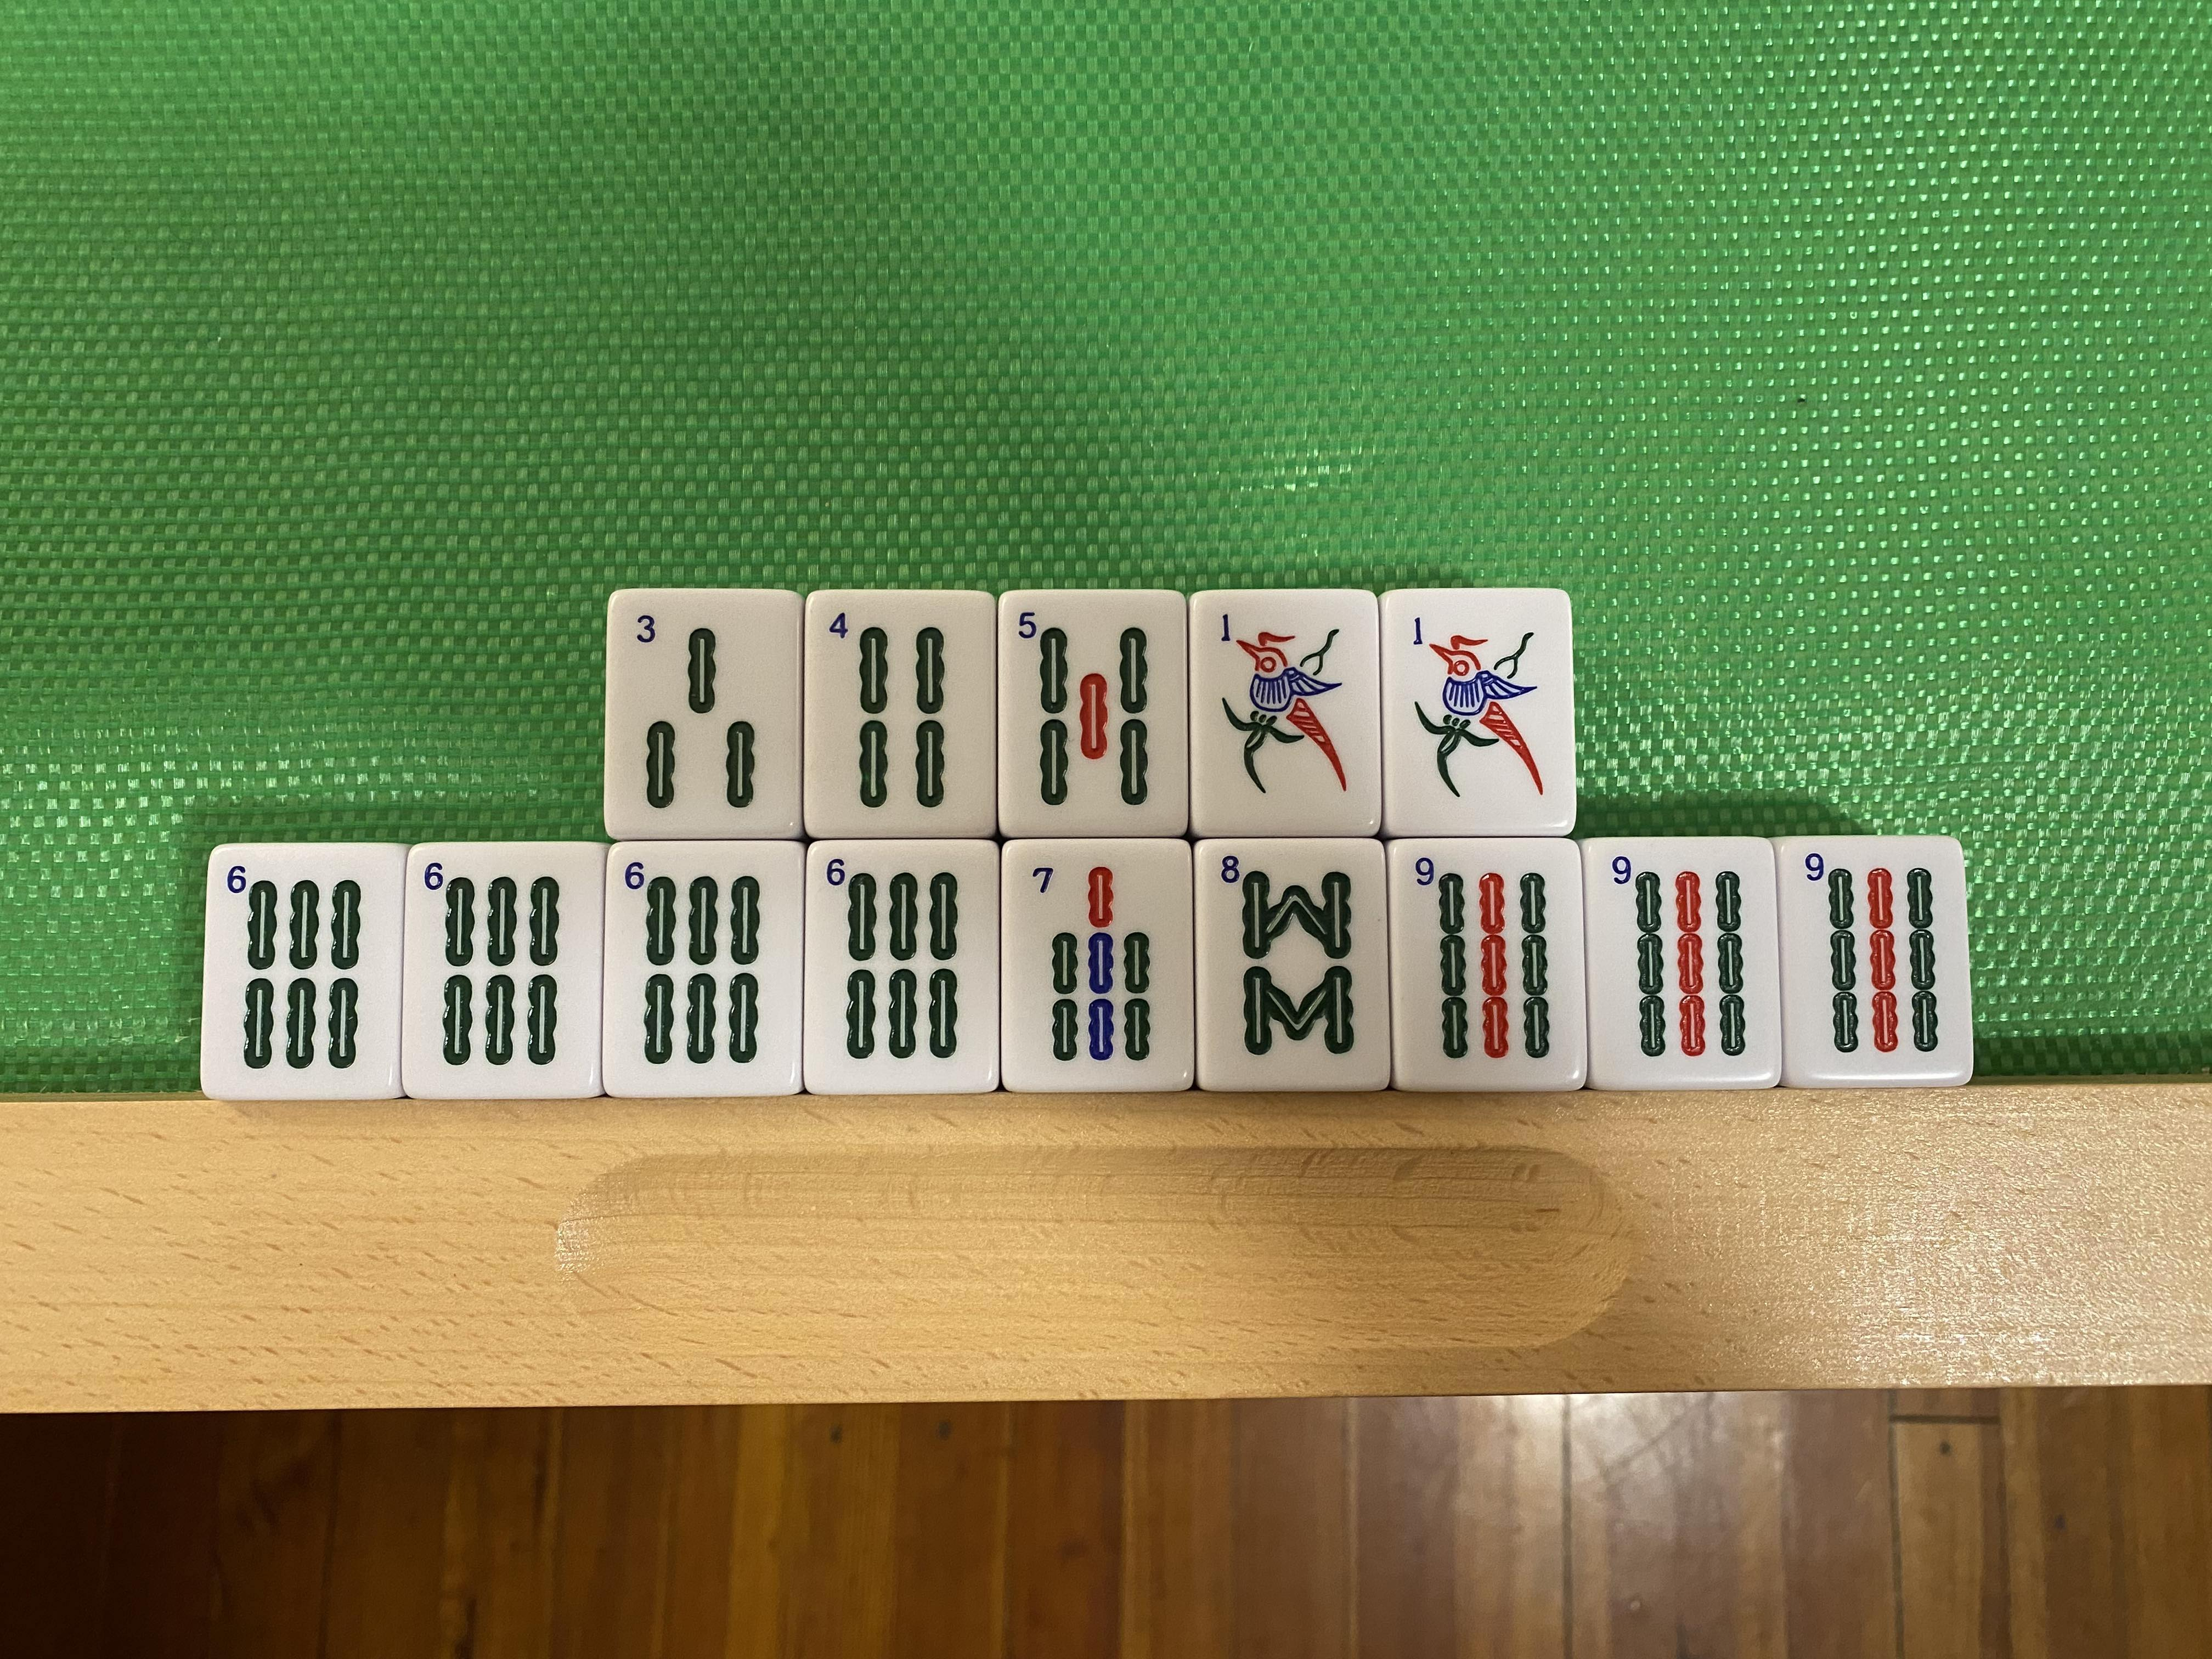bamboo-eight: (1197, 843, 1385, 1087)
bamboo-five: (1001, 594, 1186, 835)
bamboo-four: (805, 594, 993, 835)
bamboo-nine: (1395, 843, 1578, 1084), (1594, 838, 1771, 1084), (1789, 840, 1959, 1084)
bamboo-one: (1195, 592, 1379, 835), (1385, 592, 1569, 833)
bamboo-seven: (1003, 842, 1190, 1091)
bamboo-six: (204, 845, 404, 1094), (608, 843, 803, 1094), (408, 845, 603, 1093), (808, 840, 995, 1091)
bamboo-three: (608, 592, 801, 833)
